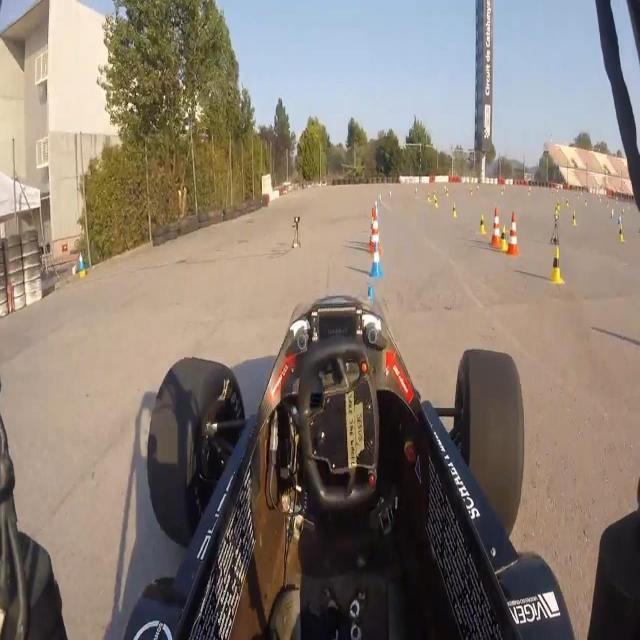blue_cone: (370, 241, 382, 278), (373, 200, 379, 218), (618, 212, 622, 227), (610, 206, 614, 220)
large_orange_cone: (507, 212, 518, 256), (370, 211, 380, 254), (489, 209, 500, 248), (368, 208, 378, 242)
yellow_cone: (548, 247, 562, 284), (499, 226, 507, 253), (618, 223, 624, 245), (478, 213, 484, 234), (571, 209, 577, 227), (452, 202, 457, 220), (426, 188, 431, 203), (556, 198, 560, 214), (434, 194, 438, 209), (566, 196, 570, 209), (433, 189, 437, 201), (446, 186, 450, 197), (555, 202, 558, 216)
